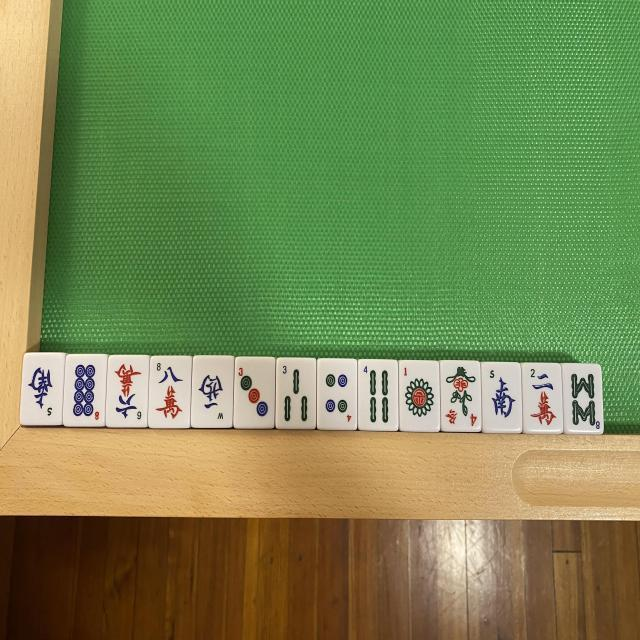bs4: (440, 366, 478, 434)
hws: (22, 356, 63, 426), (482, 364, 520, 432)
hww: (194, 357, 233, 428)
sb3: (276, 359, 316, 429)
sb4: (358, 359, 398, 428)
sb8: (564, 367, 602, 435)
sc2: (526, 362, 565, 430)
sc6: (110, 359, 148, 429)
sc8: (152, 357, 193, 429)
sd1: (400, 362, 440, 430)
sd3: (234, 359, 275, 429)
sd4: (317, 360, 357, 430)
sd8: (68, 354, 104, 426)
